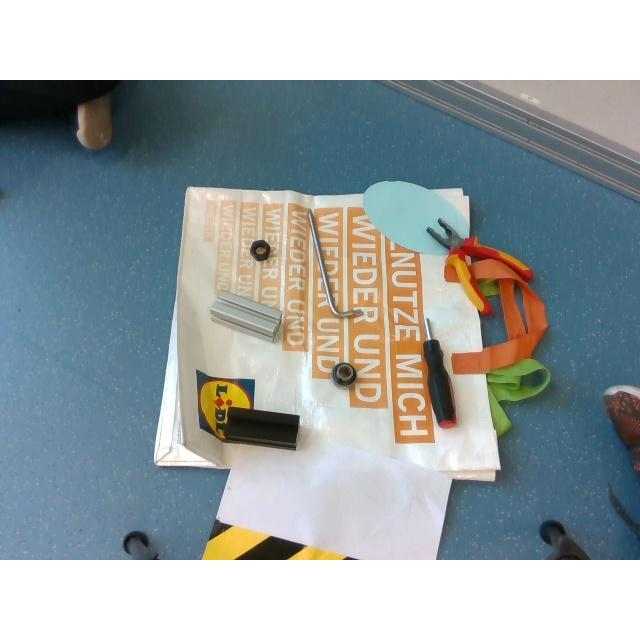AllenKey: (307, 208, 363, 318)
Bearing2: (330, 362, 358, 386)
M20: (249, 239, 273, 261)
S40_40_B: (215, 404, 298, 450)
S40_40_G: (210, 288, 282, 339)
